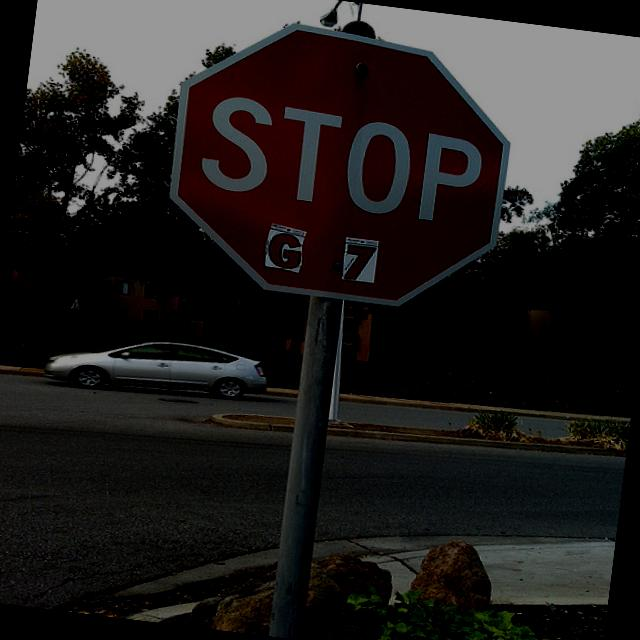Vehicle: (42, 324, 270, 406)
